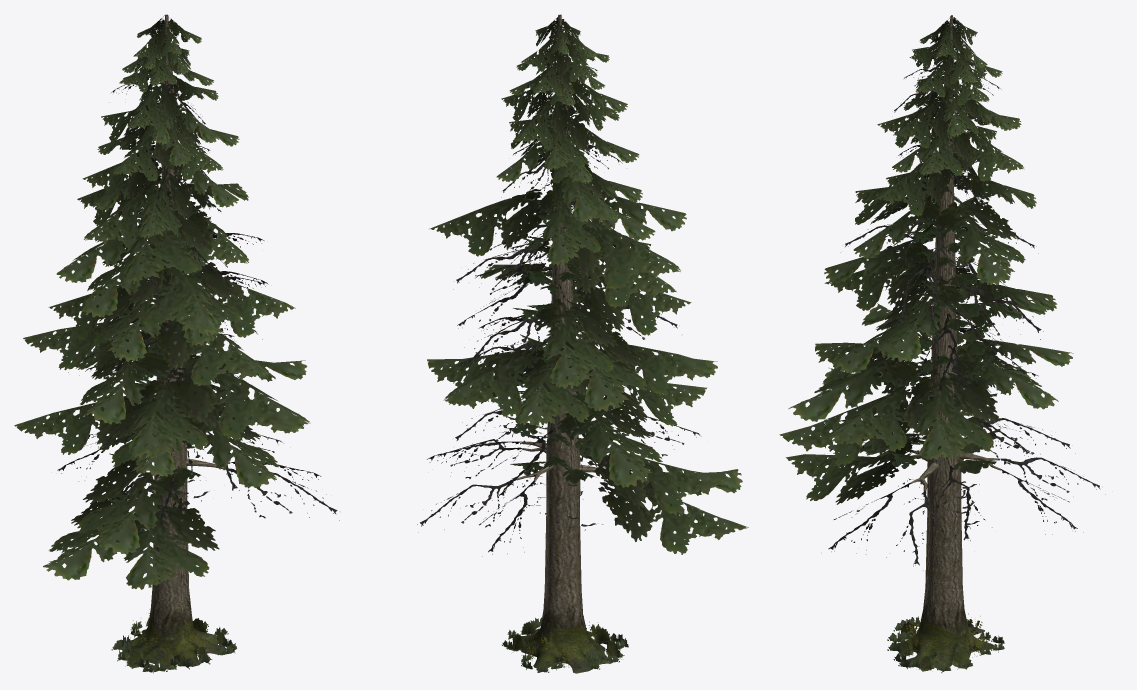
The model's file is tree_pine06.glb.
3 views of the same model, side by side, from view 1: azimuth 30°, elevation 25°; view 2: azimuth 150°, elevation 25°; view 3: azimuth 270°, elevation 25° (orthographic).
Parts seen in each view (by area): view 1: 0_Arbre01; view 2: 0_Arbre01; view 3: 0_Arbre01.
Part boxes in pixels (x1,y1,x2,y2): 0_Arbre01: (14,14,339,673); 0_Arbre01: (417,14,748,673); 0_Arbre01: (779,15,1105,672).
Bounding box in the file's own units: 6.25 × 12.1 × 5.95.
Materials: 1 (1 with a texture image).
